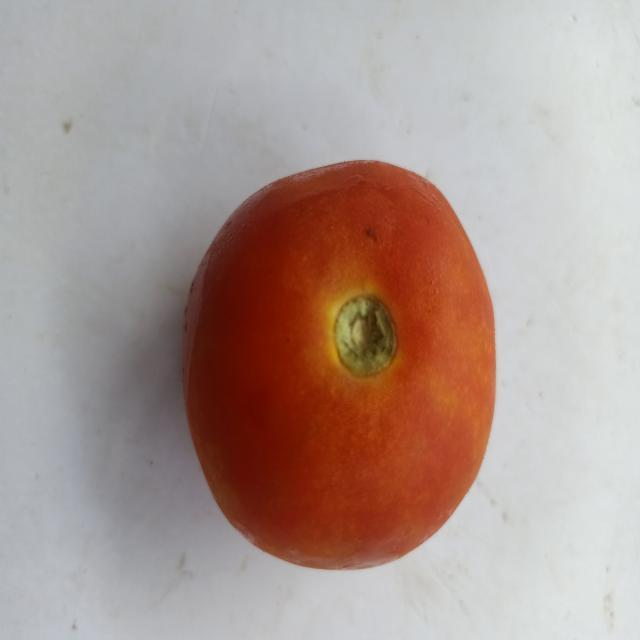Tomato: (154, 107, 546, 591)
